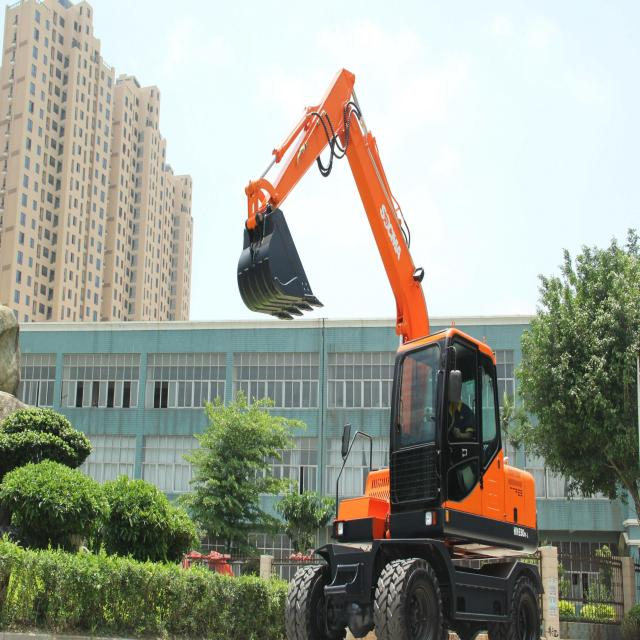excavator: (238, 61, 566, 640)
